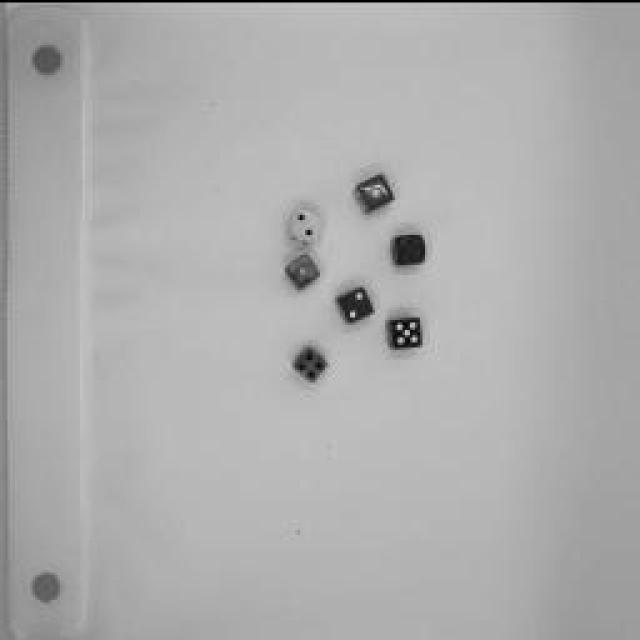dice_1: (349, 164, 399, 216), (280, 249, 322, 289)
dice_2: (332, 280, 378, 325), (281, 200, 324, 248)
dice_4: (289, 340, 331, 388)
dice_5: (385, 308, 425, 348), (388, 228, 428, 264)
